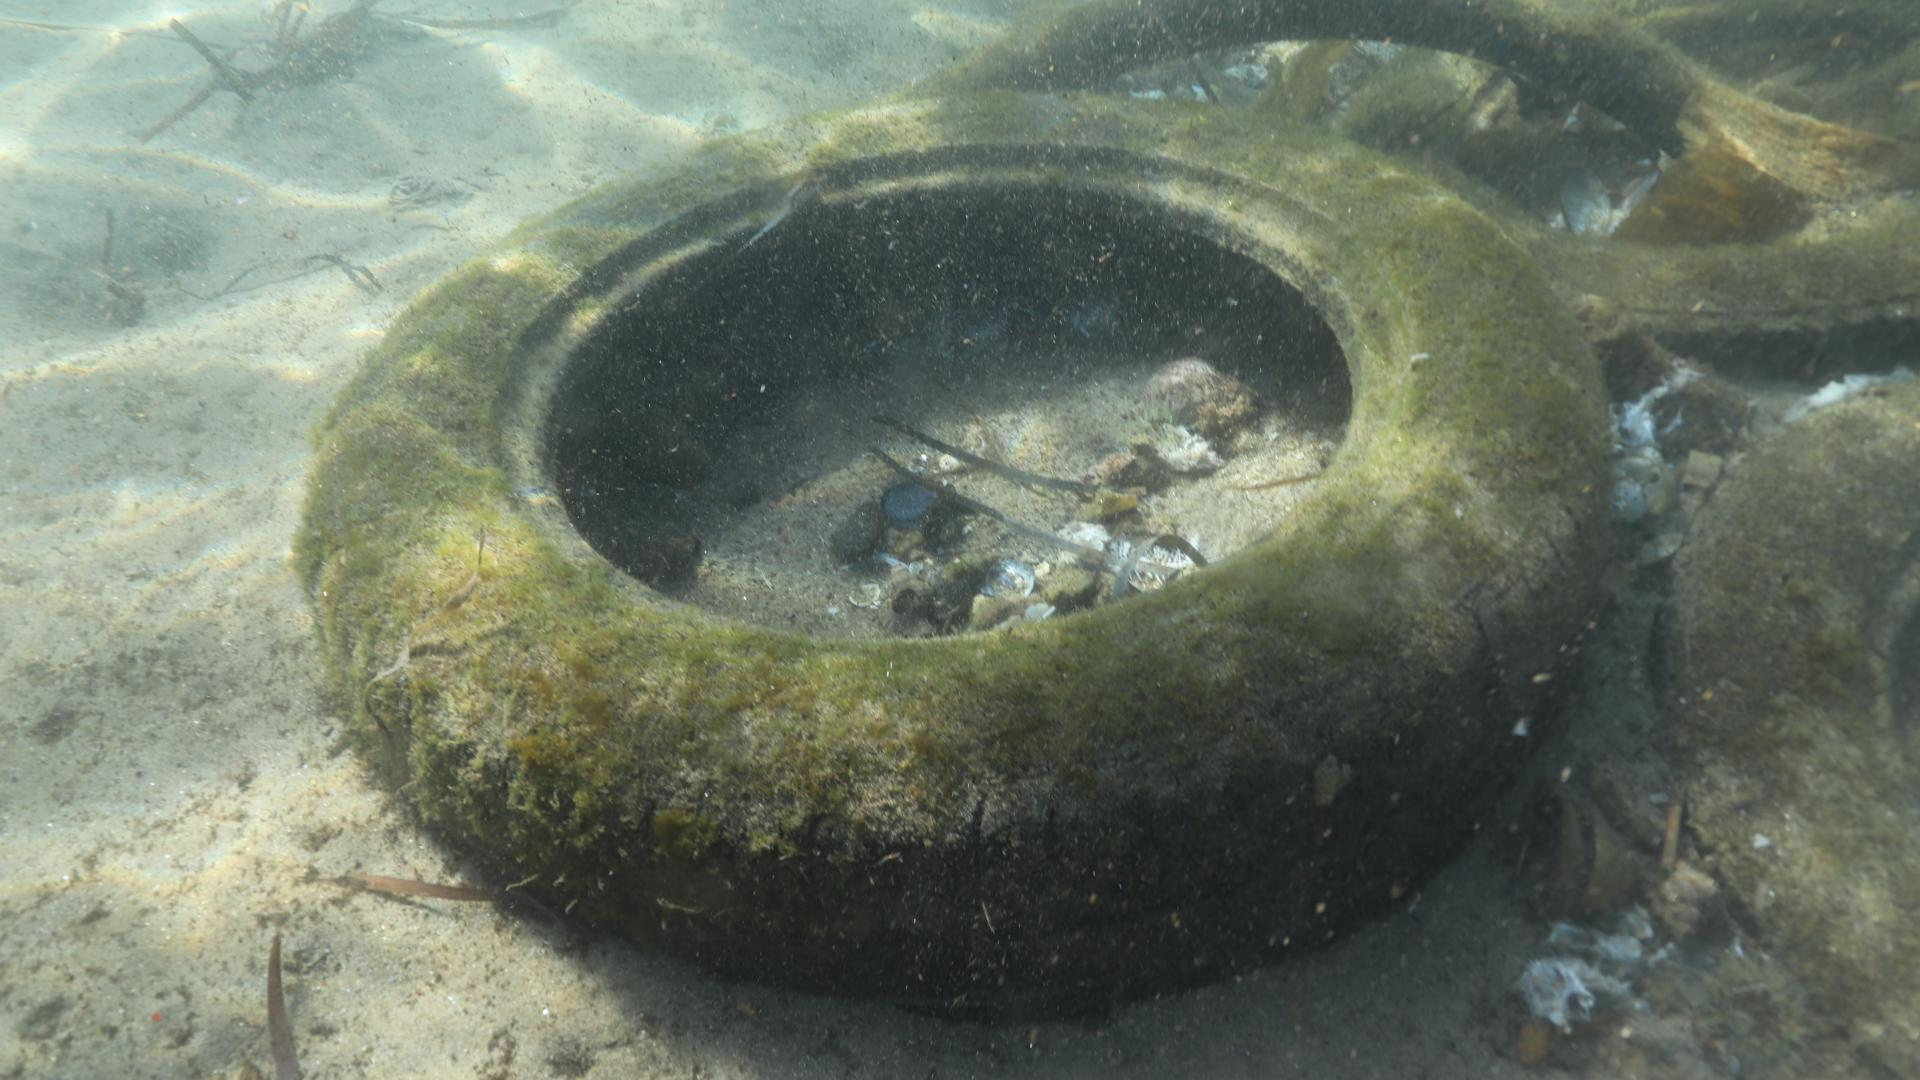tire: (294, 87, 1609, 1022)
